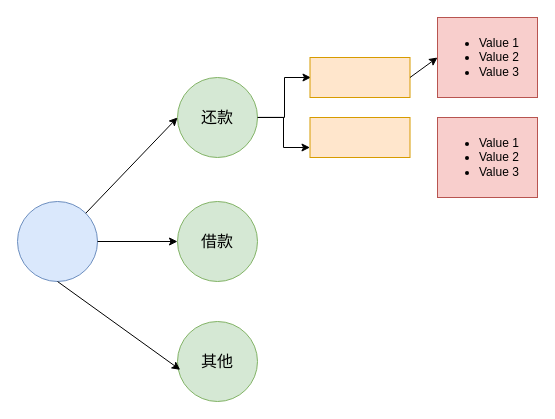
Image size: 555x419. Some labels were removed from this diagram. Each missing label, with the centre of its shape:
"Child 2" belongs at (x=359, y=137).
"入口" belongs at (x=57, y=241).
"我怎么还款失败" belongs at (x=359, y=77).
